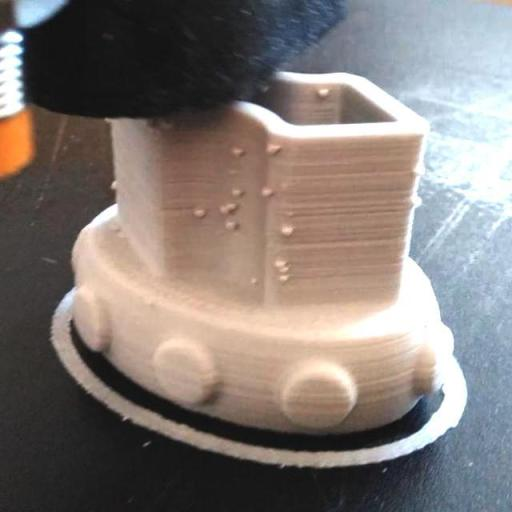blobs: (223, 184, 247, 202), (264, 140, 287, 158), (190, 204, 209, 225), (216, 200, 238, 216), (108, 174, 126, 193), (410, 160, 428, 178), (258, 182, 276, 200), (270, 252, 288, 270), (224, 146, 247, 160), (220, 219, 240, 235), (279, 224, 298, 238), (275, 269, 292, 284), (407, 194, 425, 206), (317, 88, 330, 102)
